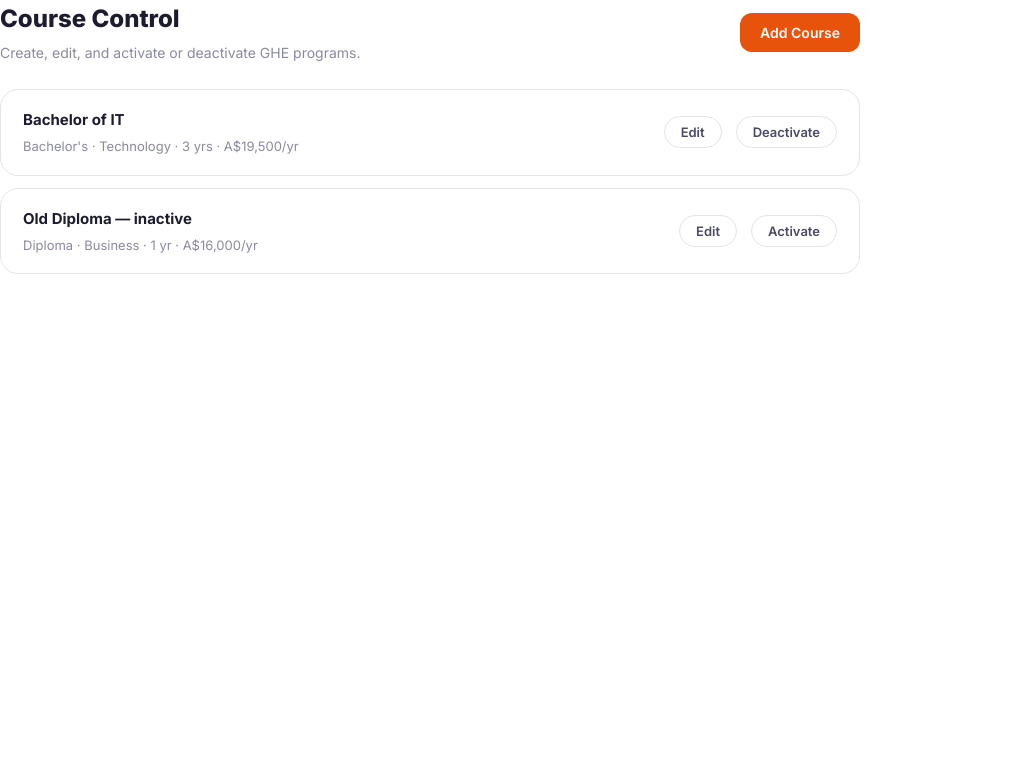
Test: opens the edit form prefilled with the selected course
The image size is (1024, 768).
Check: the text "Bachelor of IT" is shown, box [23,110,125,129]
Click the button "Edit" in the row of "19,500": (693, 132) [664,116,722,148]
(page scrolled)
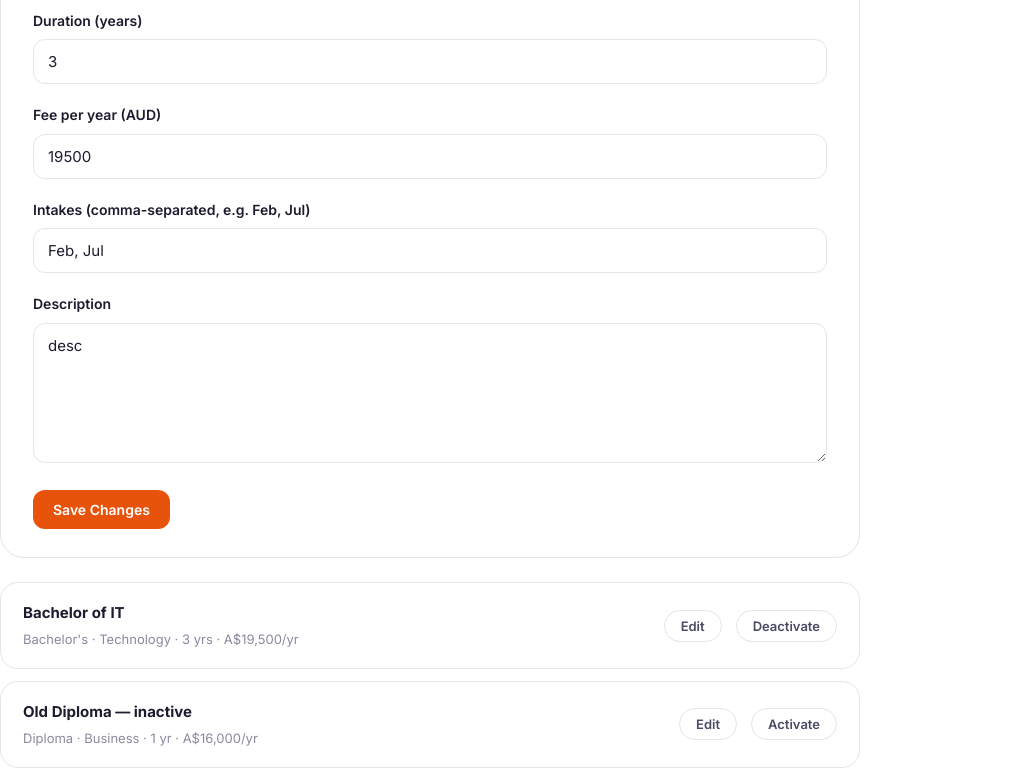
Check: the button "Save Changes" is shown, box [33,490,170,529]
